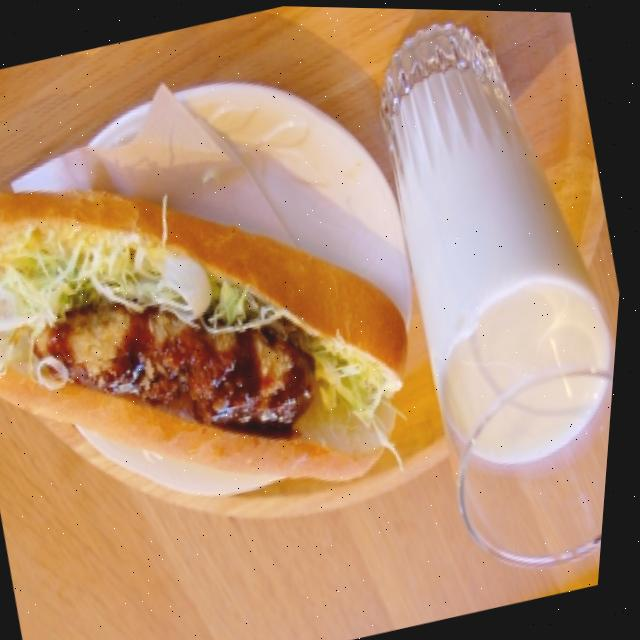三明治: (0, 35, 483, 606)
